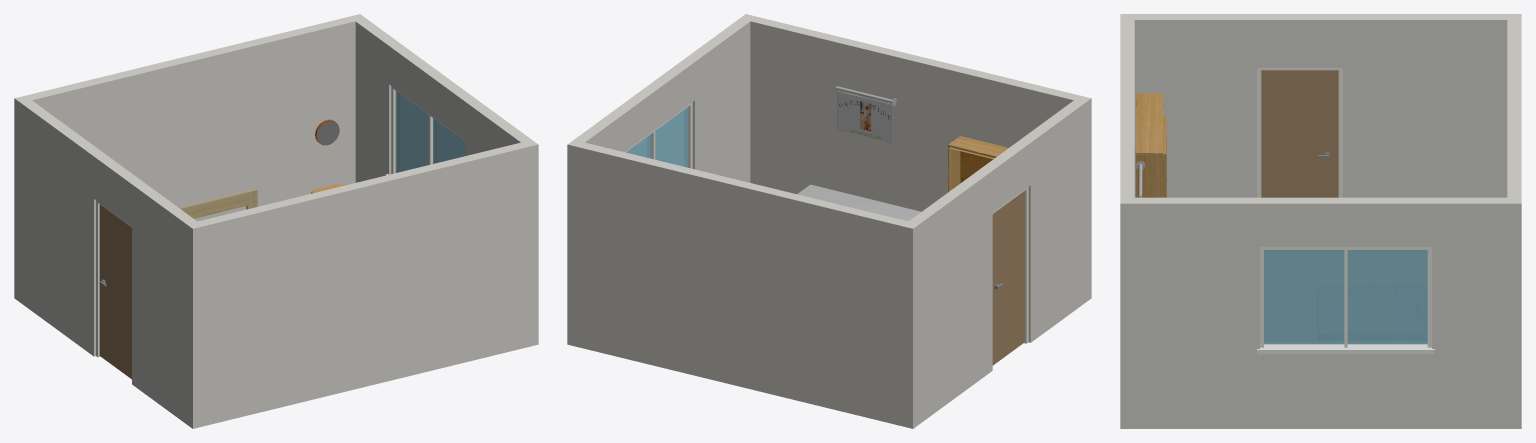
File: holodeck.glb
3 views of the same model, side by side, from view 1: azimuth 30°, elevation 25°; view 2: azimuth 150°, elevation 25°; view 3: azimuth 270°, elevation 25° (orthographic). The views are drawn at different scales.
Visible parts, largest first — view 1: wall|scenesmith_047__R00|0, wall|scenesmith_047__R00|1, wall|scenesmith_047__R00|2, wall|scenesmith_047__R00|3, wall|scenesmith_047__R00|2 Door 0 | wood leaf, wall|scenesmith_047__R00|3 Window 0 | glazing, scenesmith_047__R00_0, wall|scenesmith_047__R00|3 Window 0 | jamb, wall|scenesmith_047__R00|2 Door 0 | jamb, scenesmith_047__R00_6; view 2: wall|scenesmith_047__R00|1, wall|scenesmith_047__R00|0, wall|scenesmith_047__R00|2, wall|scenesmith_047__R00|3, wall|scenesmith_047__R00|2 Door 0 | wood leaf, scenesmith_047__R00_5, wall|scenesmith_047__R00|3 Window 0 | glazing, scenesmith_047__R00_3, scenesmith_047__R00_4, wall|scenesmith_047__R00|2 Door 0 | jamb, wall|scenesmith_047__R00|3 Window 0 | jamb; view 3: wall|scenesmith_047__R00|3, wall|scenesmith_047__R00|2, wall|scenesmith_047__R00|3 Window 0 | glazing, wall|scenesmith_047__R00|2 Door 0 | wood leaf, wall|scenesmith_047__R00|1, wall|scenesmith_047__R00|0, wall|scenesmith_047__R00|3 Window 0 | jamb, scenesmith_047__R00_3, wall|scenesmith_047__R00|2 Door 0 | jamb.
Part boxes in pixels (x1,y1,x2,y2): wall|scenesmith_047__R00|0: (187,140,538,428); wall|scenesmith_047__R00|1: (15,14,365,221); wall|scenesmith_047__R00|2: (14,98,203,428); wall|scenesmith_047__R00|3: (353,16,534,182); wall|scenesmith_047__R00|2 Door 0 | wood leaf: (99,204,131,379); wall|scenesmith_047__R00|3 Window 0 | glazing: (395,91,465,172); scenesmith_047__R00_0: (179,189,257,218); wall|scenesmith_047__R00|3 Window 0 | jamb: (385,86,465,175); wall|scenesmith_047__R00|2 Door 0 | jamb: (96,200,131,357); scenesmith_047__R00_6: (315,119,339,145); wall|scenesmith_047__R00|1: (567,140,918,428); wall|scenesmith_047__R00|0: (740,14,1090,211); wall|scenesmith_047__R00|2: (902,98,1091,428); wall|scenesmith_047__R00|3: (571,14,755,182); wall|scenesmith_047__R00|2 Door 0 | wood leaf: (992,191,1024,365); scenesmith_047__R00_5: (835,86,896,143); wall|scenesmith_047__R00|3 Window 0 | glazing: (626,107,687,167); scenesmith_047__R00_3: (948,136,1008,192); scenesmith_047__R00_4: (797,184,921,221); wall|scenesmith_047__R00|2 Door 0 | jamb: (992,187,1028,343); wall|scenesmith_047__R00|3 Window 0 | jamb: (624,102,692,168); wall|scenesmith_047__R00|3: (1120,197,1520,428); wall|scenesmith_047__R00|2: (1134,14,1507,197); wall|scenesmith_047__R00|3 Window 0 | glazing: (1264,250,1427,344); wall|scenesmith_047__R00|2 Door 0 | wood leaf: (1261,70,1338,197); wall|scenesmith_047__R00|1: (1507,14,1521,428); wall|scenesmith_047__R00|0: (1120,14,1134,428); wall|scenesmith_047__R00|3 Window 0 | jamb: (1257,247,1434,354); scenesmith_047__R00_3: (1135,93,1166,197); wall|scenesmith_047__R00|2 Door 0 | jamb: (1257,67,1342,197).
Size of the model in its own units: 4.73 by 2.61 by 4.2.
12 materials, 6 textured.
